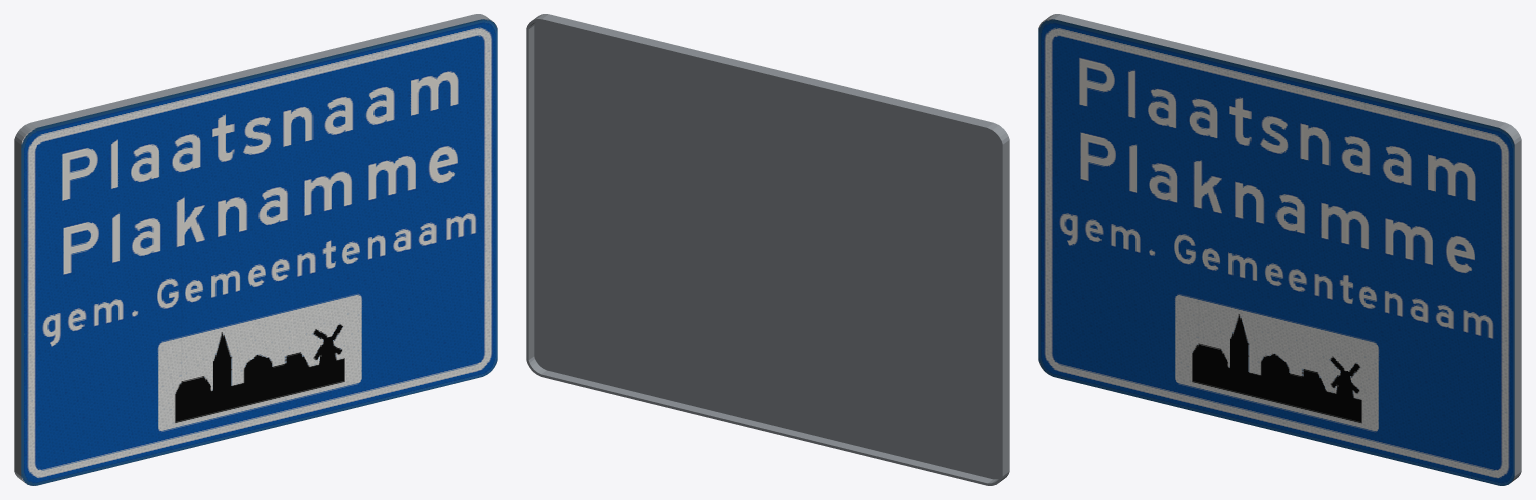
The picture shows the model from 3 angles, left to right: view 1: azimuth 30°, elevation 25°; view 2: azimuth 150°, elevation 25°; view 3: azimuth 330°, elevation 25°; orthographic projection.
Parts seen in each view (by area): view 1: cat_e299f4d4f3a61109; view 2: cat_e299f4d4f3a61109; view 3: cat_e299f4d4f3a61109.
Boxes of the visible parts, <box> form: cat_e299f4d4f3a61109: <box>14,14,497,485</box>; cat_e299f4d4f3a61109: <box>526,14,1009,485</box>; cat_e299f4d4f3a61109: <box>1038,14,1521,485</box>.
Size of the model in its own units: 0.6 by 0.015 by 0.4306.
2 materials, 1 textured.
